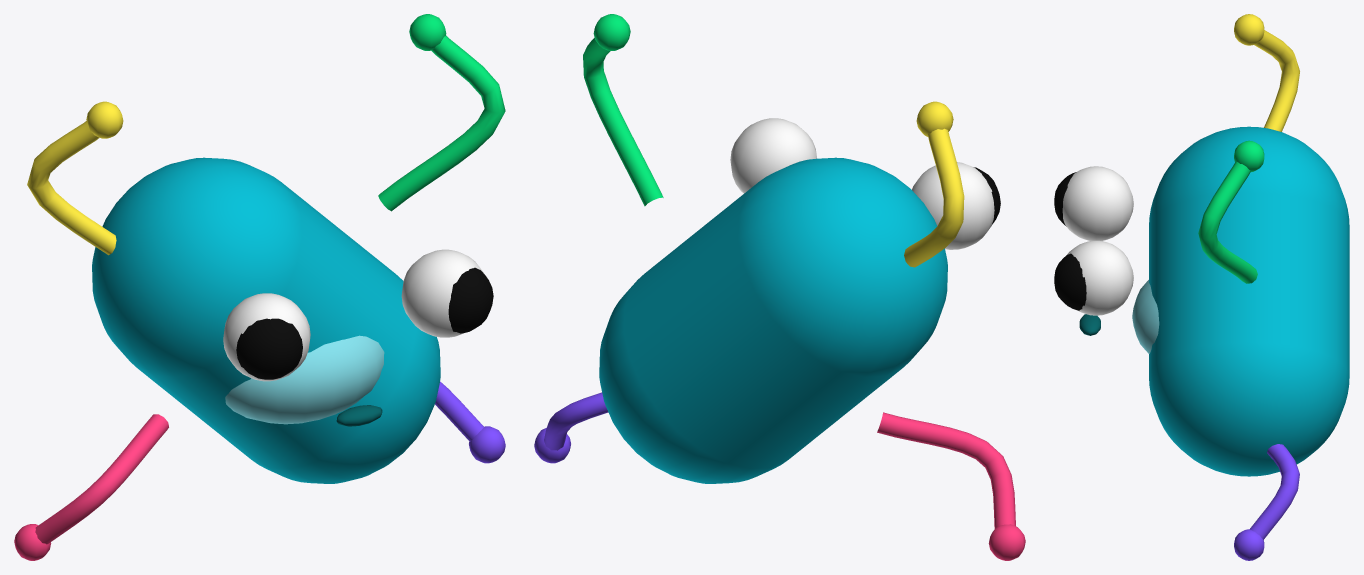
The model's file is bakteri.glb.
3 views of the same model, side by side, from view 1: azimuth 30°, elevation 25°; view 2: azimuth 150°, elevation 25°; view 3: azimuth 270°, elevation 25° (orthographic). The views are drawn at different scales.
Bounding box in the file's own units: 1.15 × 1.04 × 0.7061.
